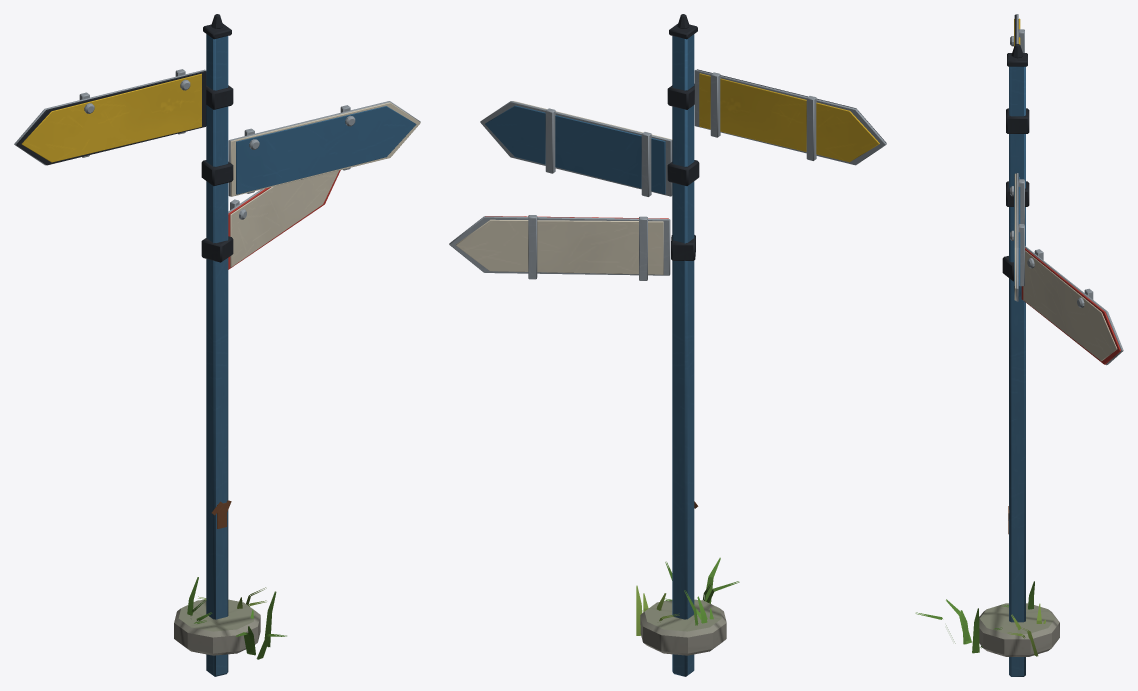
Rendered from road_sign_junction.glb.
3 views of the same model, side by side, from view 1: azimuth 30°, elevation 25°; view 2: azimuth 150°, elevation 25°; view 3: azimuth 270°, elevation 25° (orthographic). The views are drawn at different scales.
Parts seen in each view (by area): view 1: road_sign_junction; view 2: road_sign_junction; view 3: road_sign_junction.
Part boxes in pixels (bbox=[...]): road_sign_junction: bbox=[14, 14, 420, 676]; road_sign_junction: bbox=[449, 14, 886, 676]; road_sign_junction: bbox=[915, 14, 1123, 676].
Size of the model in its own units: 2.12 by 3.28 by 0.9833.
18 materials, 18 textured.
